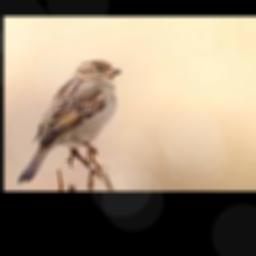Sparrow: (17, 60, 122, 183)
